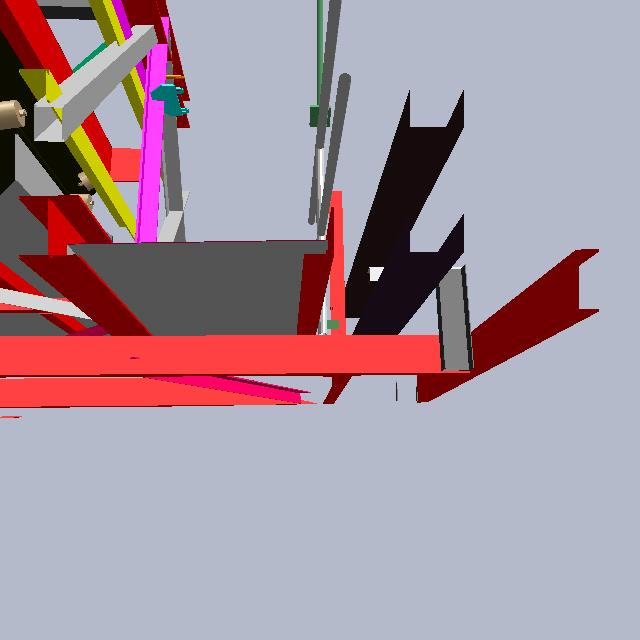Poste: (313, 3, 324, 286)
Soporte: (322, 180, 352, 352)
